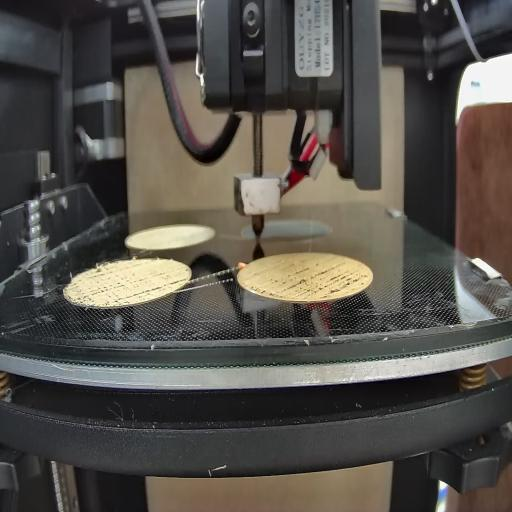under_extrusion: (252, 267, 367, 296), (73, 262, 124, 308), (129, 279, 190, 301)
